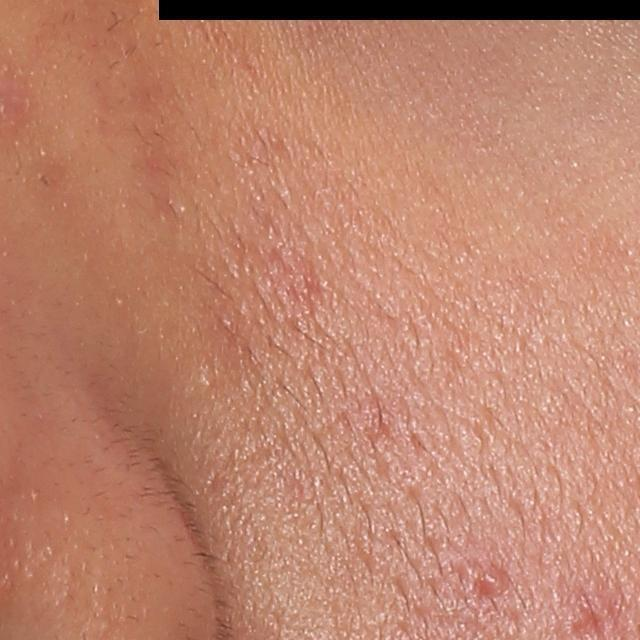comedo: (200, 376, 213, 391)
papule: (467, 554, 513, 602)
